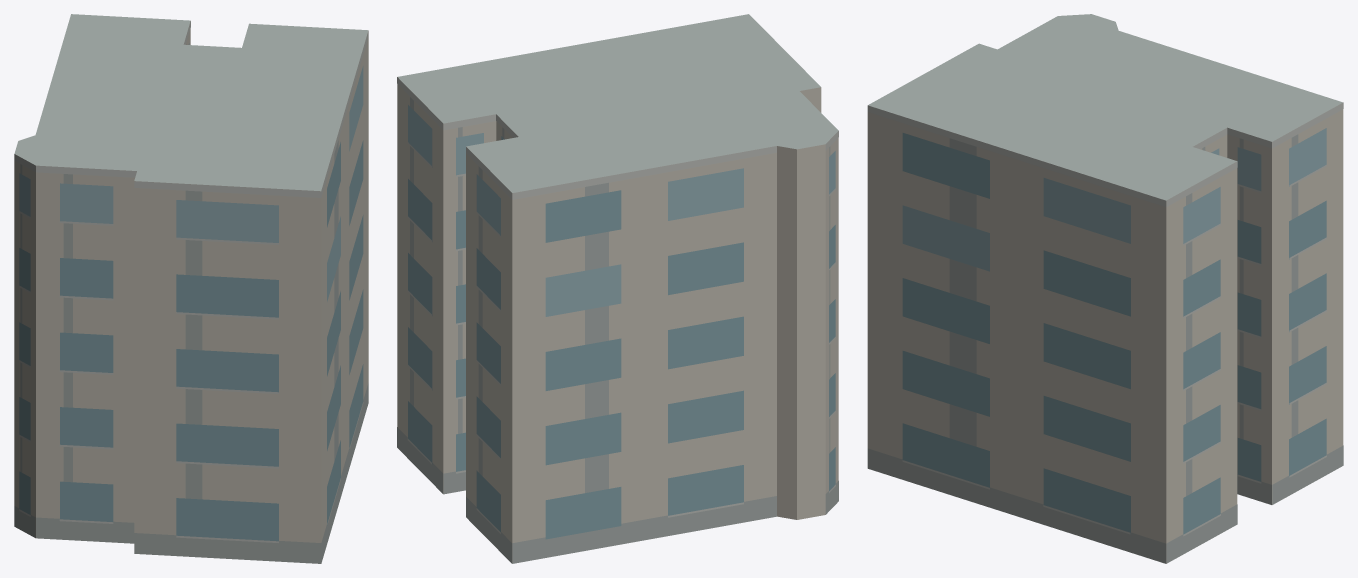
The model's file is survey-upis-32965074.glb.
The picture shows the model from 3 angles, left to right: view 1: azimuth 30°, elevation 25°; view 2: azimuth 150°, elevation 25°; view 3: azimuth 270°, elevation 25°; orthographic projection. The views are drawn at different scales.
Parts seen in each view (by area): view 1: survey-upis-32965074.tmp; view 2: survey-upis-32965074.tmp; view 3: survey-upis-32965074.tmp.
Part boxes in pixels (box(x1,y1,x2,y2)): survey-upis-32965074.tmp: box(14, 14, 368, 563); survey-upis-32965074.tmp: box(397, 14, 838, 563); survey-upis-32965074.tmp: box(867, 14, 1343, 563).
Bounding box in the file's own units: 14.66 × 13.3 × 15.79.
